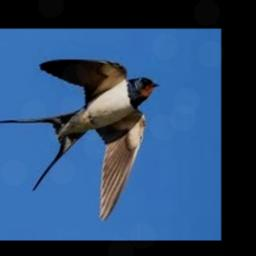Swallow: (0, 59, 158, 220)
